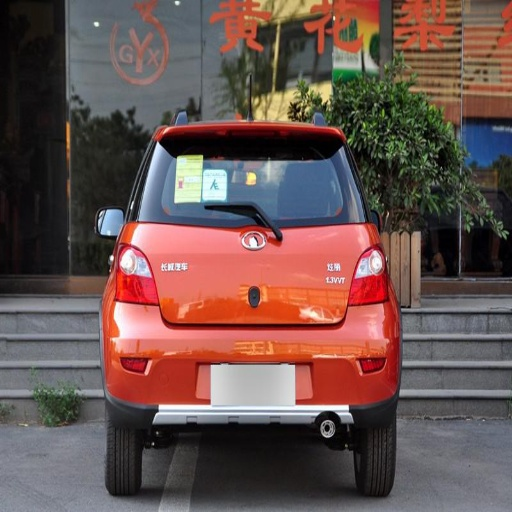back_bumper: (105, 300, 398, 429)
trunk: (134, 214, 373, 328)
